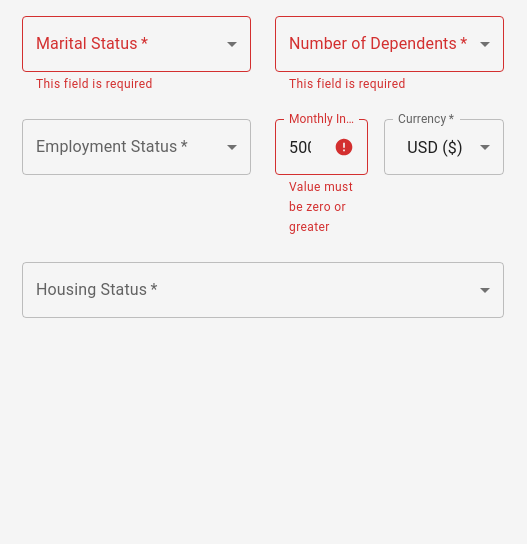
it: Step2FamilyFinancial Component › renders housing status dropdown with all options
The image size is (527, 544).
Click the dropdown named "housing status": point(263, 290) [22,262,504,318]
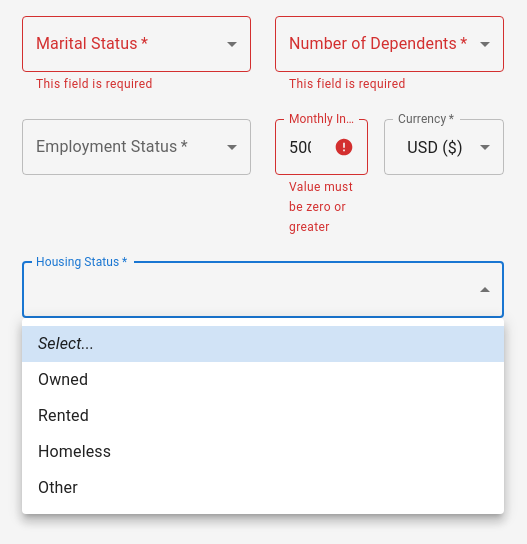
Check: the option "Owned" is shown, box [38,370,88,389]
Check: the option "Rented" is shown, box [38,406,89,425]
Check: the option "Homeless" is shown, box [38,442,111,461]
